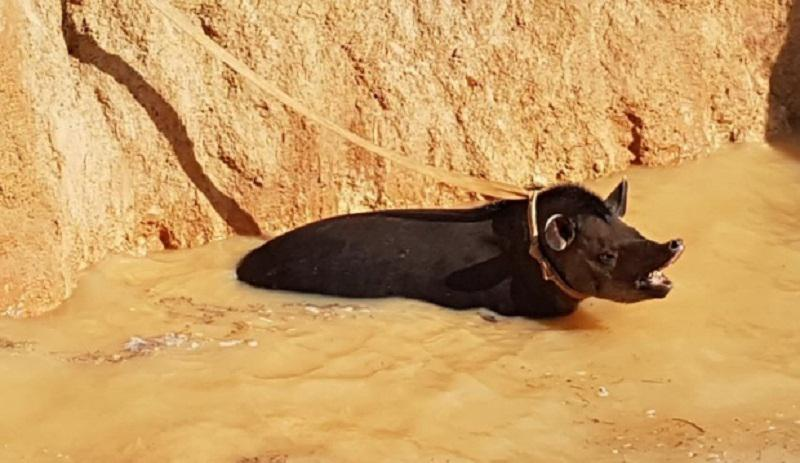Anta: (226, 173, 693, 327)
